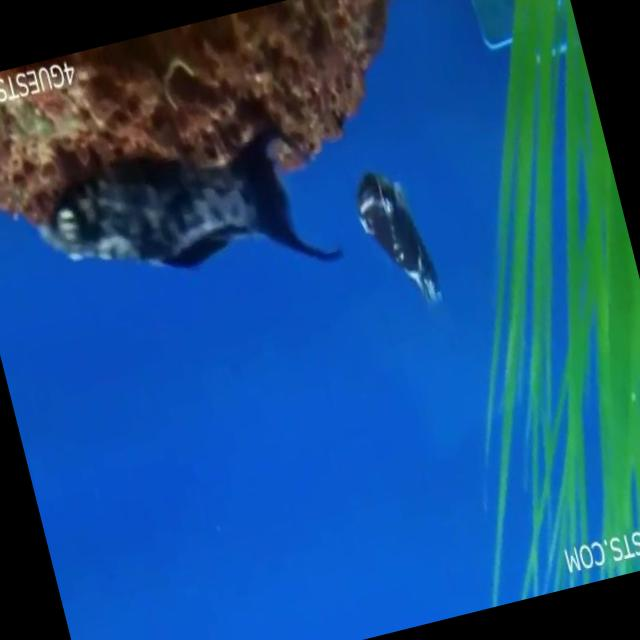PlatyFish: (3, 66, 354, 357)
